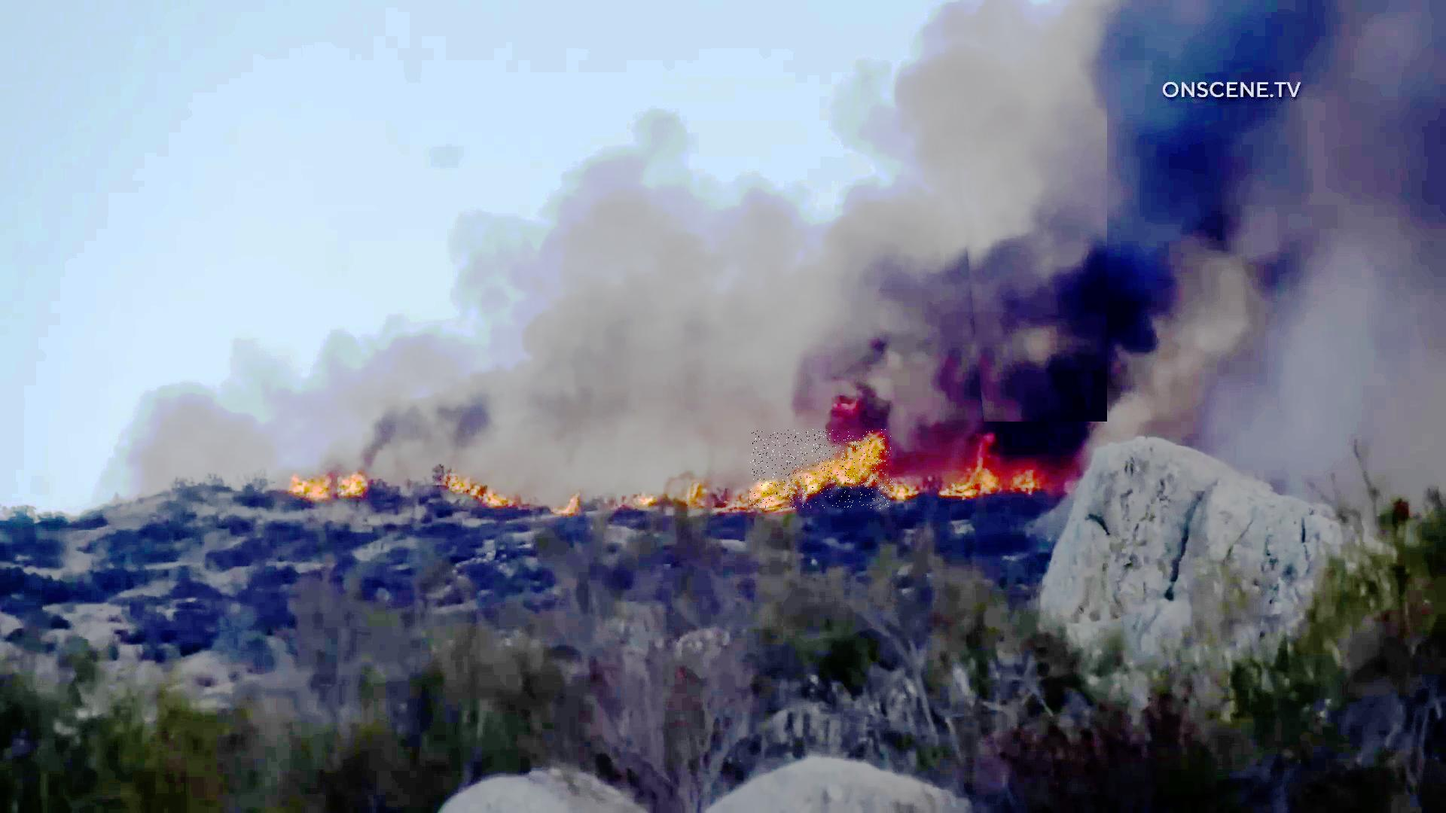fire: (750, 429, 893, 509)
smoke: (946, 7, 1109, 424)
